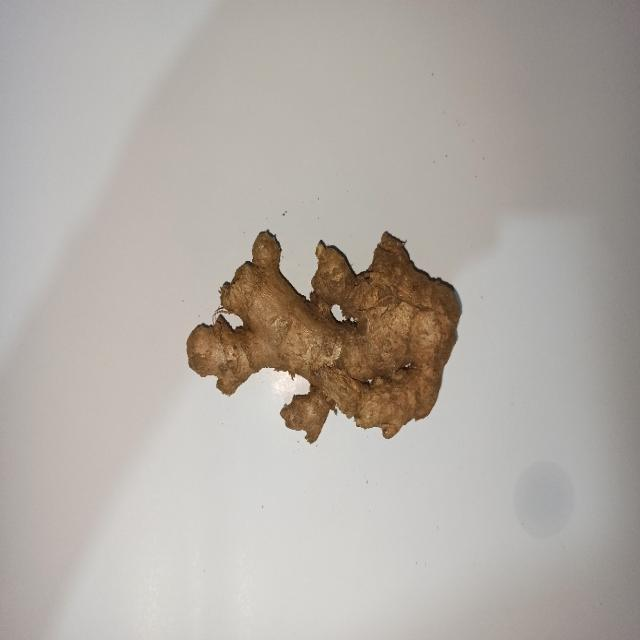ginger: (186, 231, 462, 446)
